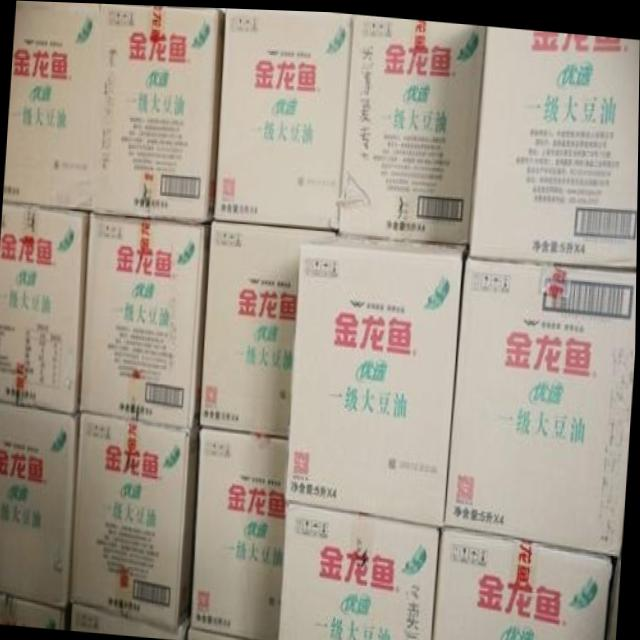box: (448, 252, 637, 553), (289, 242, 464, 526), (468, 27, 640, 264), (339, 14, 487, 241), (217, 7, 355, 230), (200, 221, 342, 436), (81, 210, 214, 428), (95, 3, 227, 219), (72, 410, 202, 626), (191, 423, 292, 640), (283, 505, 444, 640), (434, 526, 616, 640), (6, 0, 100, 210), (0, 203, 89, 412), (0, 400, 80, 611), (67, 599, 193, 638), (341, 228, 467, 251), (9, 597, 71, 628), (186, 625, 264, 640), (0, 592, 12, 623)
